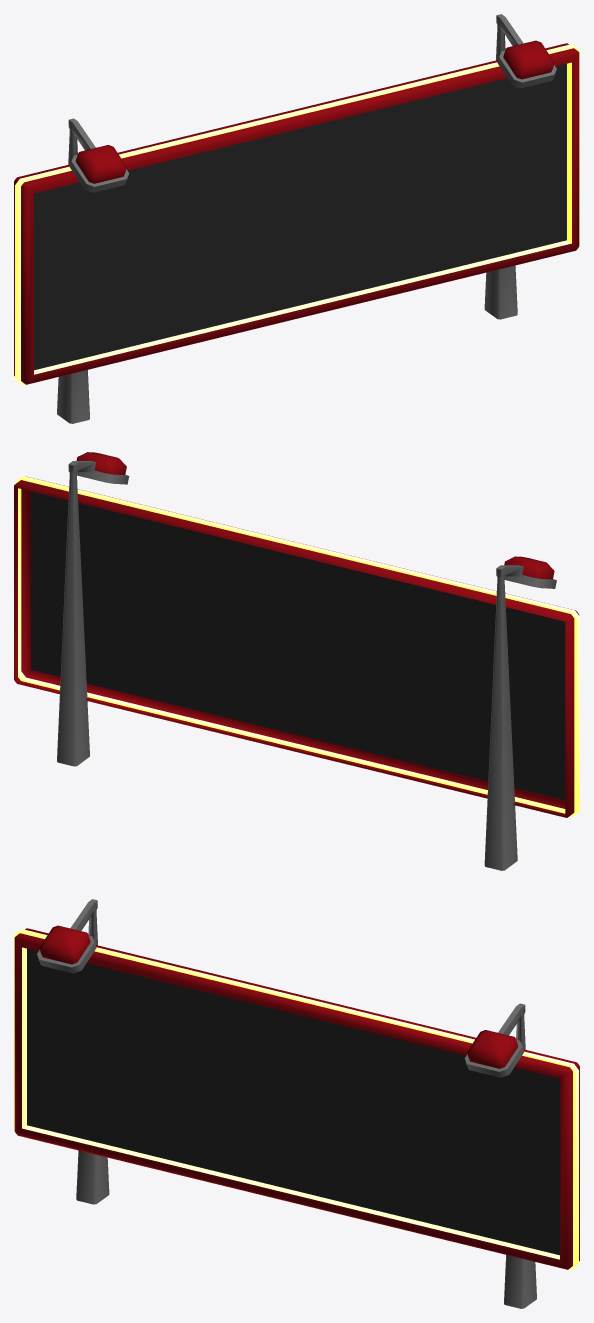
The model's file is mesh_Spaceship_Leadboard.fbx.
The picture shows the model from 3 angles, top to bottom: view 1: azimuth 30°, elevation 25°; view 2: azimuth 150°, elevation 25°; view 3: azimuth 330°, elevation 25°; orthographic projection.
Visible parts, largest first — view 1: mesh_Spaceship_Leadboard; view 2: mesh_Spaceship_Leadboard; view 3: mesh_Spaceship_Leadboard.
Boxes of the visible parts, x1,y1,x2,y2 form: mesh_Spaceship_Leadboard: (14,14,579,423); mesh_Spaceship_Leadboard: (14,452,579,870); mesh_Spaceship_Leadboard: (14,899,579,1308).
Bounding box in the file's own units: 10.4 × 5.24 × 1.44.
